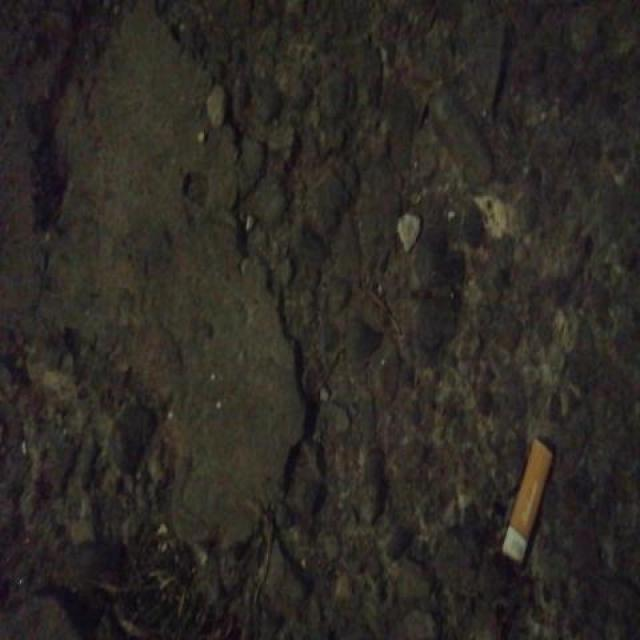non-organic waste: (499, 432, 556, 571)
